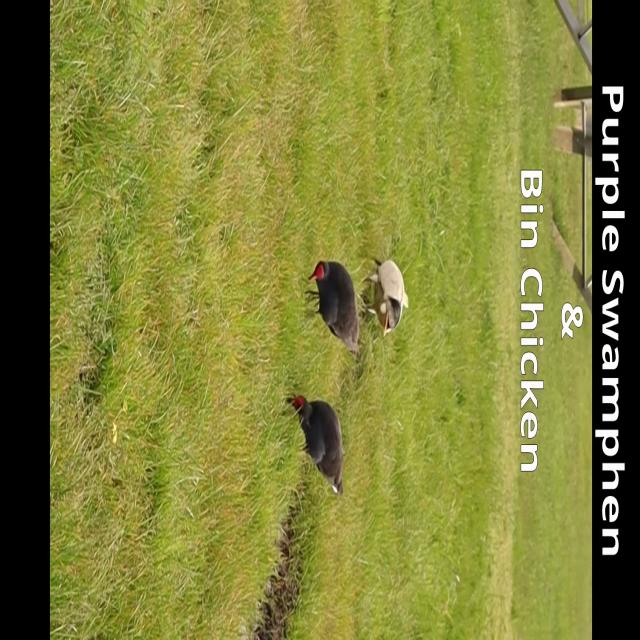Birds-Ibis: (358, 252, 410, 342)
Birds-Other: (280, 387, 346, 499), (299, 255, 359, 354)
